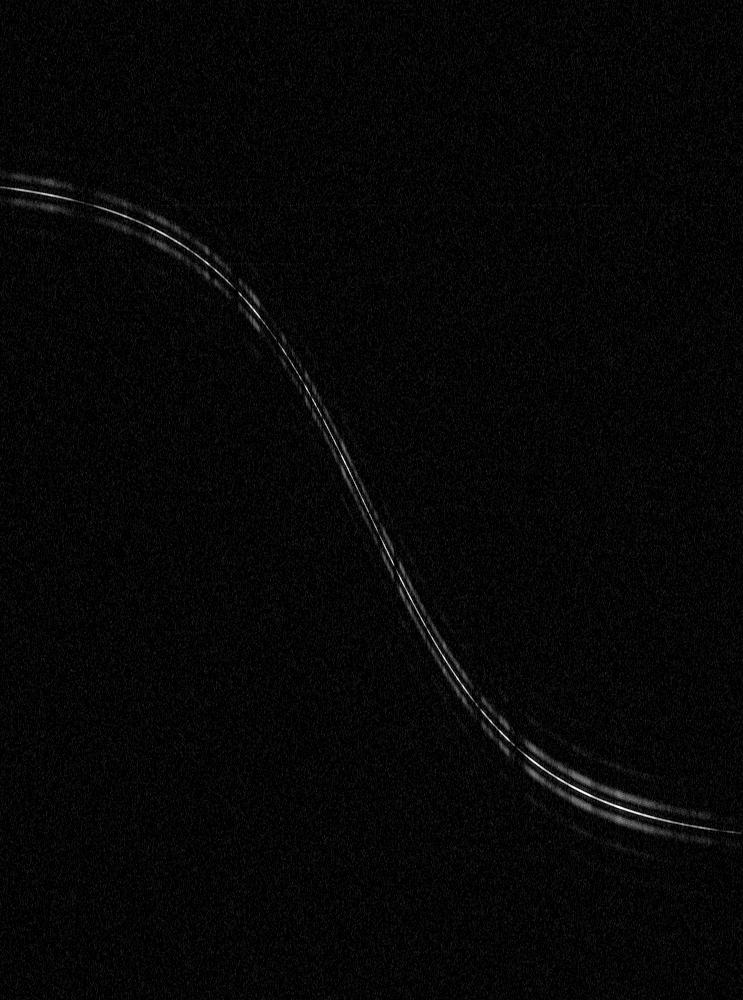signal: (0, 0, 742, 999)
